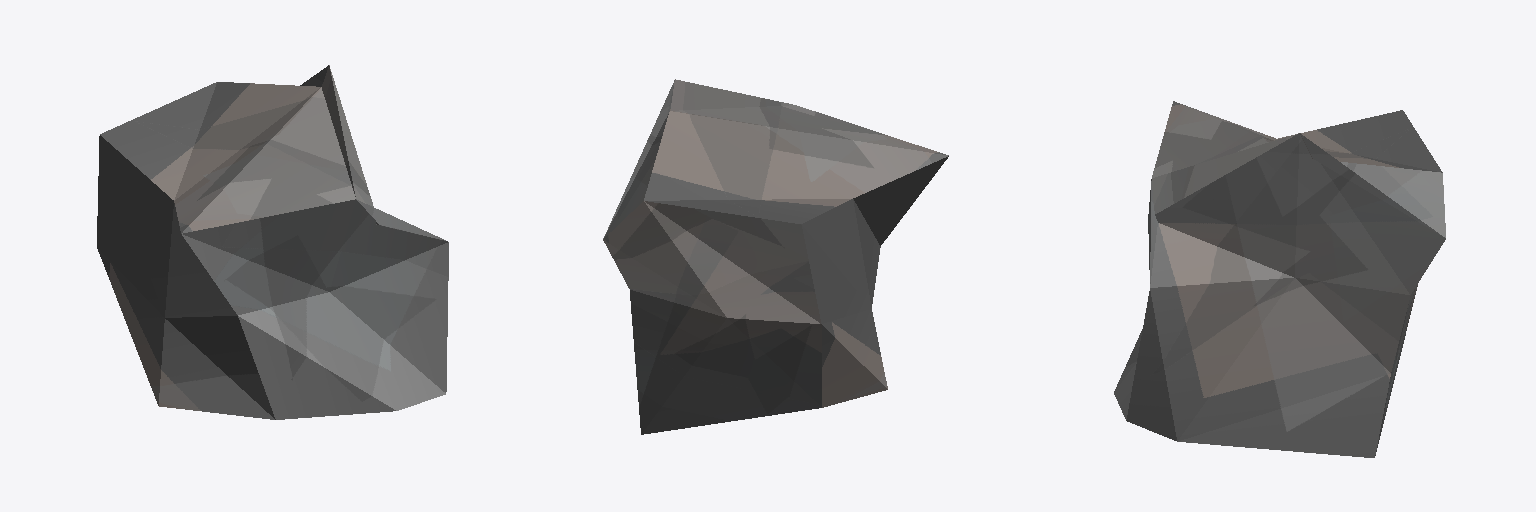
The picture shows the model from 3 angles: view 1: azimuth 30°, elevation 25°; view 2: azimuth 150°, elevation 25°; view 3: azimuth 270°, elevation 25°; orthographic projection.
Parts seen in each view (by area): view 1: Cube; view 2: Cube; view 3: Cube.
Boxes of the visible parts, box(x1,y1,x2,y2) form: Cube: box(97, 65, 448, 419); Cube: box(603, 79, 948, 434); Cube: box(1114, 101, 1445, 457).
Size of the model in its own units: 2.55 by 3.11 by 2.87.
1 materials, 1 textured.